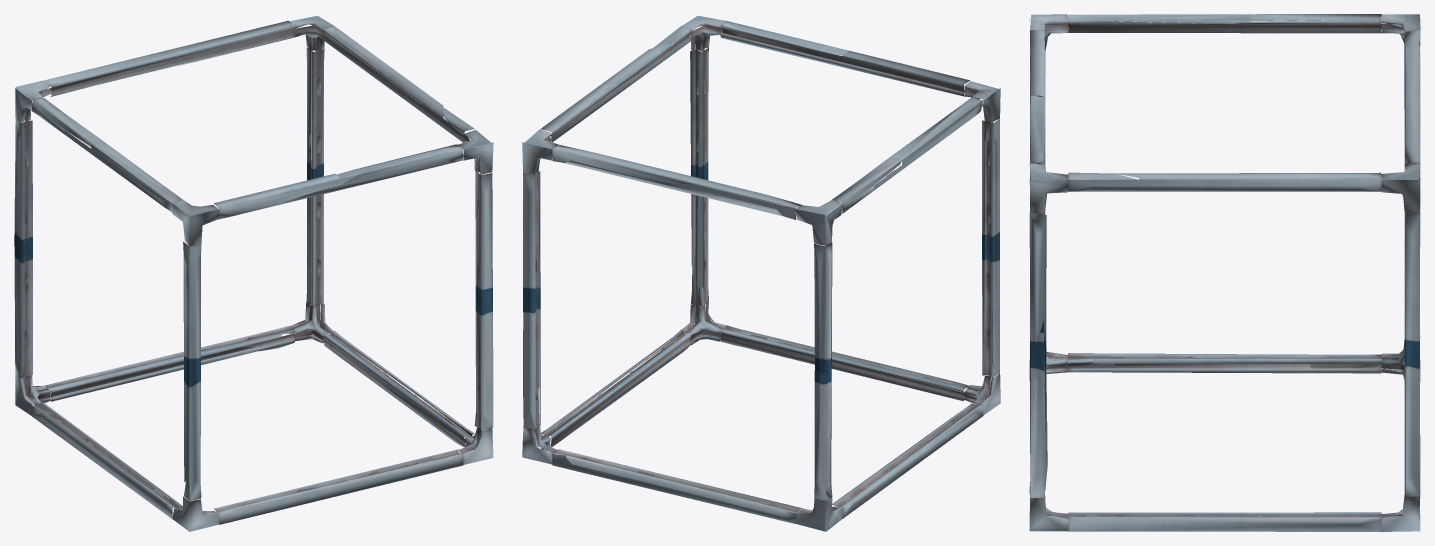
File: Vacuum Compartment.glb
3 renders of one model, left to right at view 1: azimuth 30°, elevation 25°; view 2: azimuth 150°, elevation 25°; view 3: azimuth 270°, elevation 25°, orthographic. The views are drawn at different scales.
Parts seen in each view (by area): view 1: SM_Tek_Underwater_Cage; view 2: SM_Tek_Underwater_Cage; view 3: SM_Tek_Underwater_Cage.
Part boxes in pixels (box(x1,y1,x2,y2)): SM_Tek_Underwater_Cage: box(14, 15, 493, 531); SM_Tek_Underwater_Cage: box(522, 15, 1000, 531); SM_Tek_Underwater_Cage: box(1029, 14, 1420, 531).
Size of the model in its own units: 3.03 by 3.04 by 3.03.
1 material, 1 textured.
